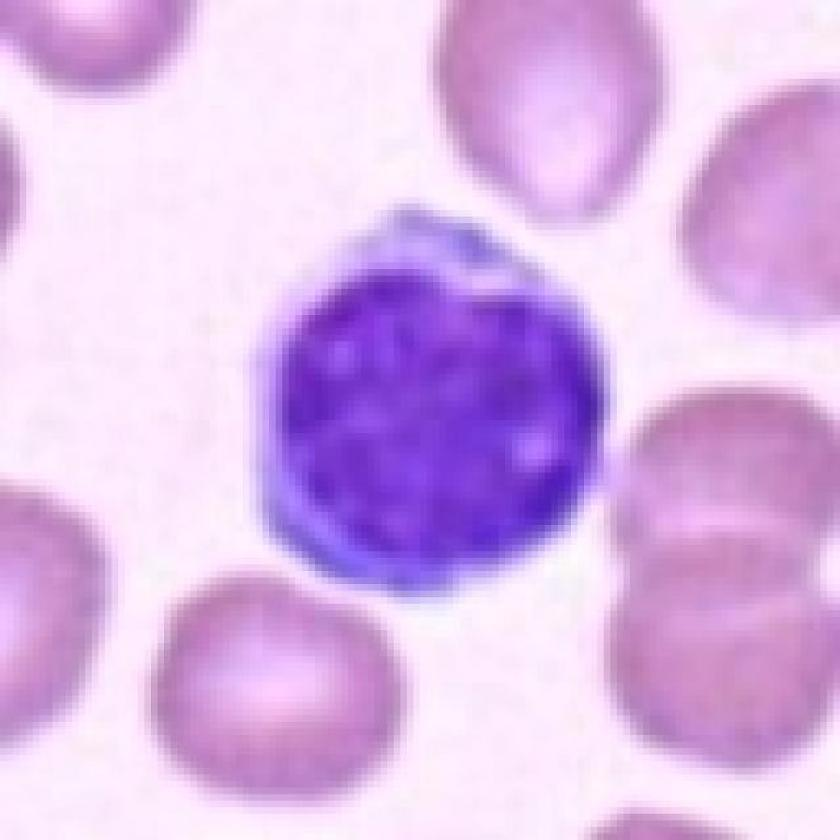lymphocyte: (241, 197, 615, 602)
